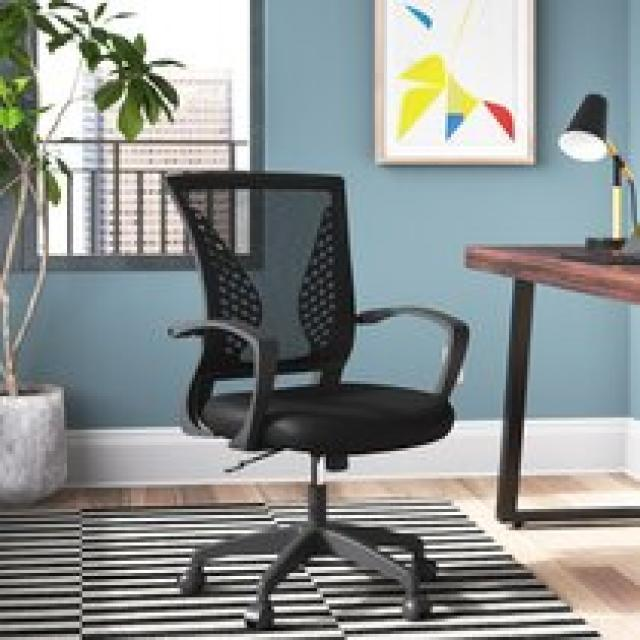chair: (162, 162, 476, 622)
